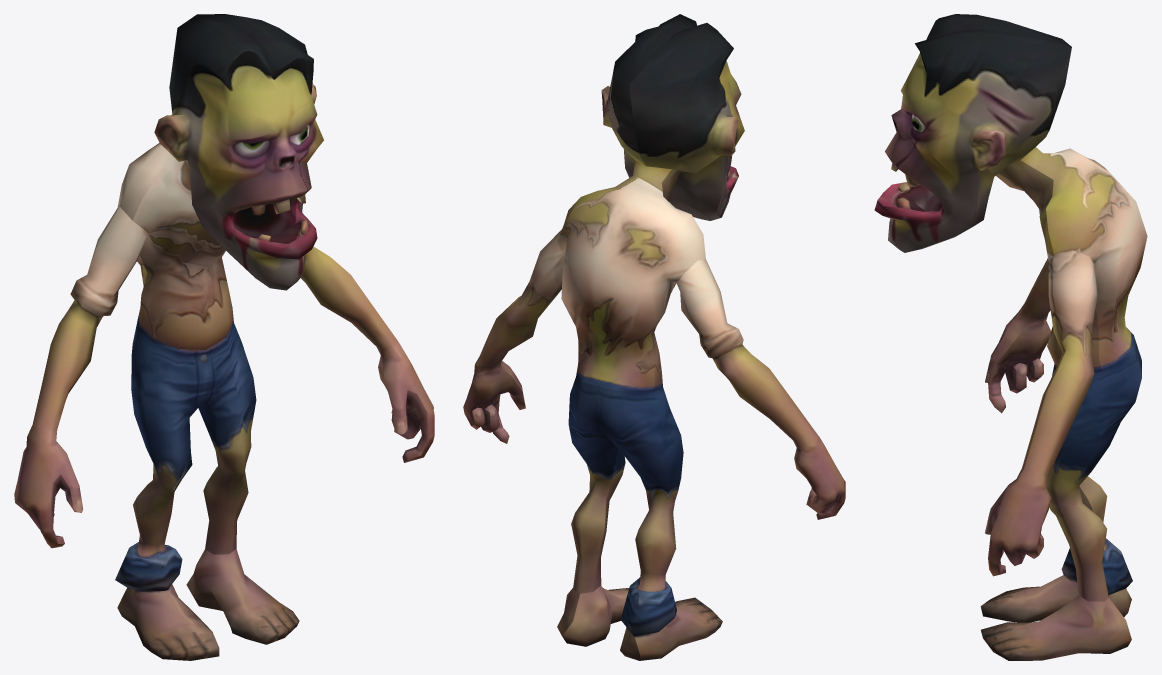
File: Zombie.fbx
3 views of the same model, side by side, from view 1: azimuth 30°, elevation 25°; view 2: azimuth 150°, elevation 25°; view 3: azimuth 270°, elevation 25° (orthographic). The views are drawn at different scales.
Parts seen in each view (by area): view 1: retopo_Mesh4_phong1_0; view 2: retopo_Mesh4_phong1_0; view 3: retopo_Mesh4_phong1_0.
Boxes of the visible parts, bbox=[...] form: retopo_Mesh4_phong1_0: bbox=[14, 14, 434, 660]; retopo_Mesh4_phong1_0: bbox=[463, 14, 845, 660]; retopo_Mesh4_phong1_0: bbox=[874, 14, 1147, 660].
Size of the model in its own units: 461 by 674 by 276.
Materials: 1 (1 with a texture image).
